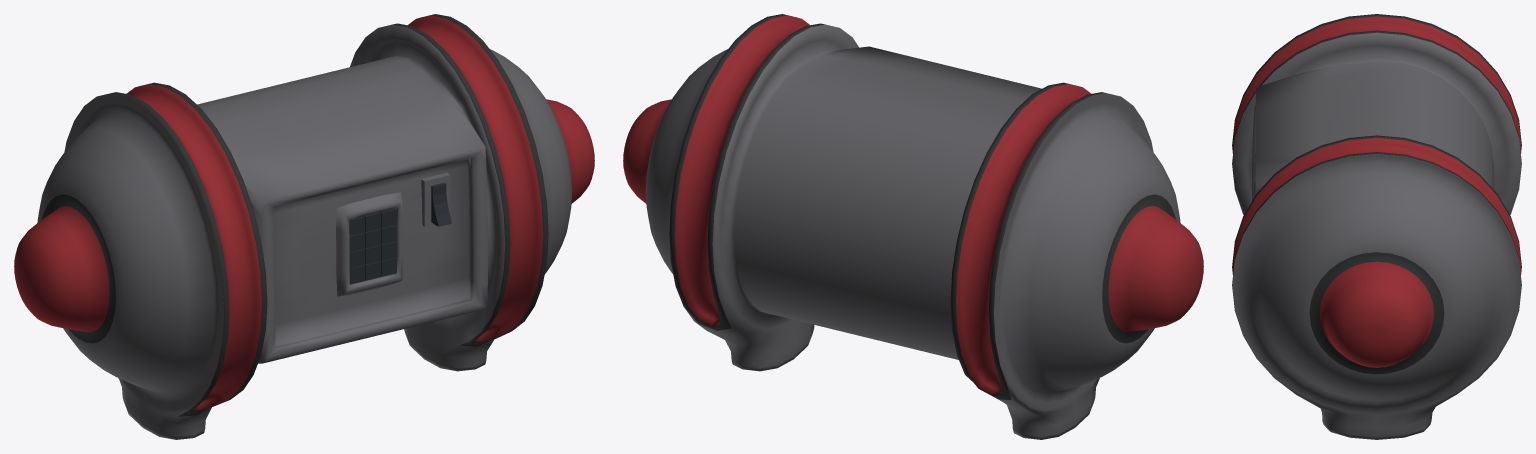
Rendered from Bomba.fbx.
The picture shows the model from 3 angles, left to right: view 1: azimuth 30°, elevation 25°; view 2: azimuth 150°, elevation 25°; view 3: azimuth 270°, elevation 25°; orthographic projection. The views are drawn at different scales.
Visible parts, largest first — view 1: Cylinder, Cylinder.001; view 2: Cylinder; view 3: Cylinder.
Boxes of the visible parts, <box> form: Cylinder: <box>14,14,594,439</box>; Cylinder.001: <box>349,172,450,284</box>; Cylinder: <box>623,14,1203,439</box>; Cylinder: <box>1232,14,1521,439</box>.
Size of the model in its own units: 475 by 264 by 242.
